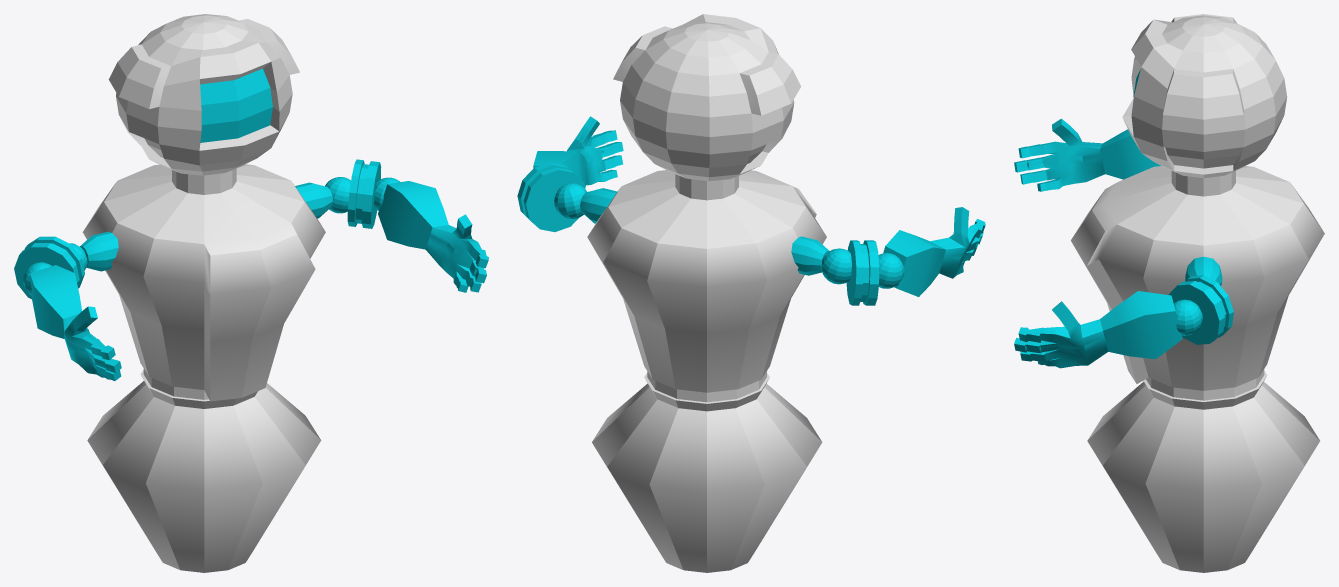
Rendered from Darwin.fbx.
The picture shows the model from 3 angles, left to right: view 1: azimuth 30°, elevation 25°; view 2: azimuth 150°, elevation 25°; view 3: azimuth 270°, elevation 25°; orthographic projection.
Visible parts, largest first — view 1: Darwin; view 2: Darwin; view 3: Darwin.
Boxes of the visible parts, box(x1,y1,x2,y2) form: Darwin: box(14, 14, 488, 572); Darwin: box(517, 14, 985, 572); Darwin: box(1014, 14, 1324, 572).
Size of the model in its own units: 4.73 by 5.94 by 3.17.
